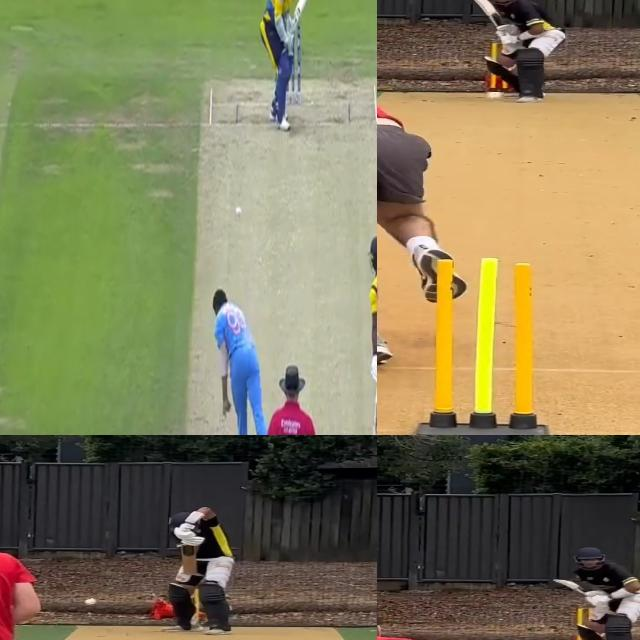Cricket ball: (486, 92, 504, 103), (84, 596, 99, 606), (236, 205, 243, 217)
Stumps: (416, 258, 553, 435)
